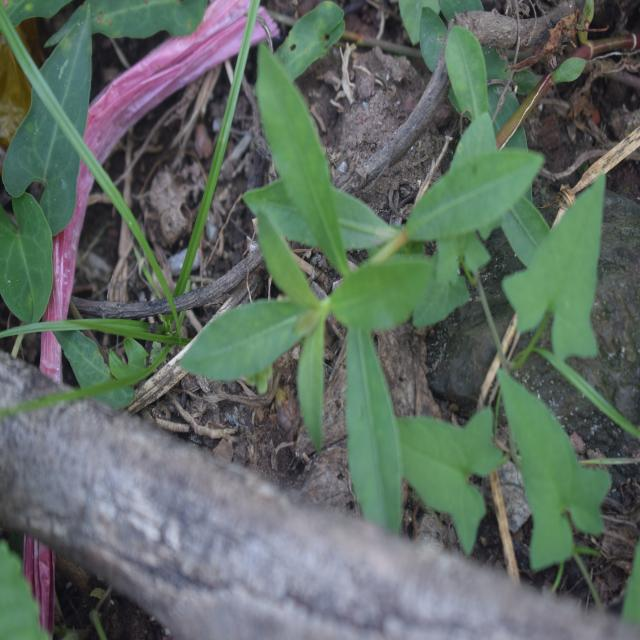Alligatorweed: (240, 41, 475, 504)
